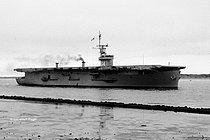MIL_Ship: (13, 33, 188, 91)
